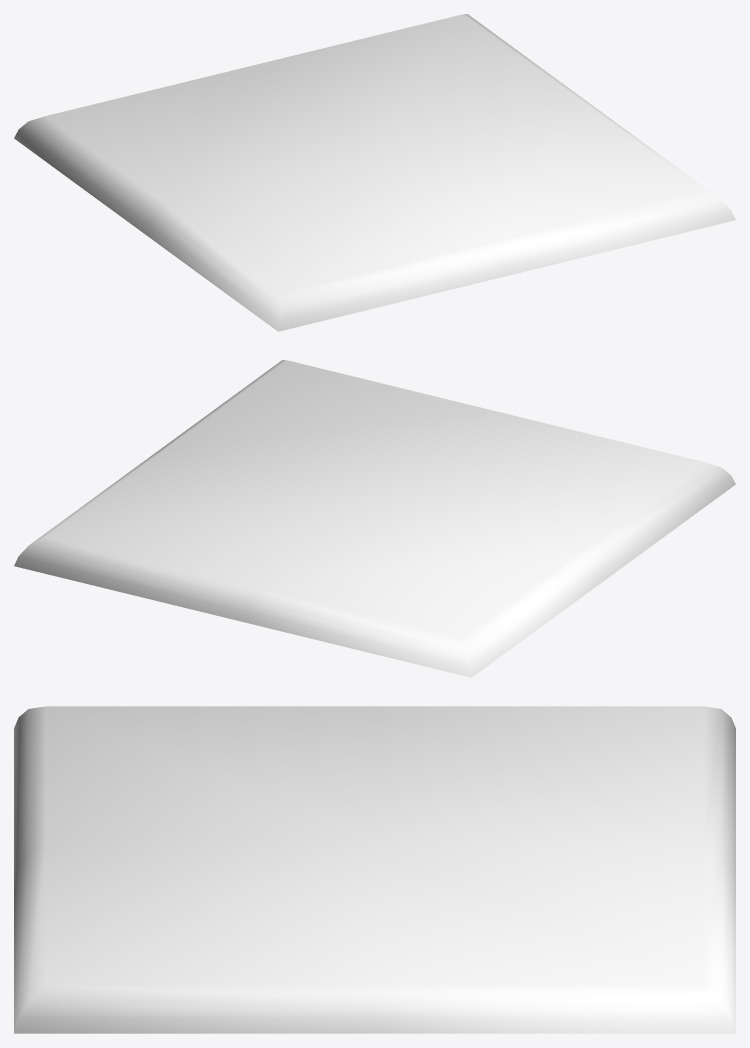
The model's file is Platform_Small.fbx.
The picture shows the model from 3 angles, top to bottom: view 1: azimuth 30°, elevation 25°; view 2: azimuth 150°, elevation 25°; view 3: azimuth 270°, elevation 25°; orthographic projection. The views are drawn at different scales.
Parts seen in each view (by area): view 1: Plane; view 2: Plane; view 3: Plane.
Boxes of the visible parts, x1,y1,x2,y2 form: Plane: [14, 14, 735, 331]; Plane: [14, 360, 735, 677]; Plane: [14, 706, 735, 1033].
Size of the model in its own units: 778 by 42.22 by 778.
